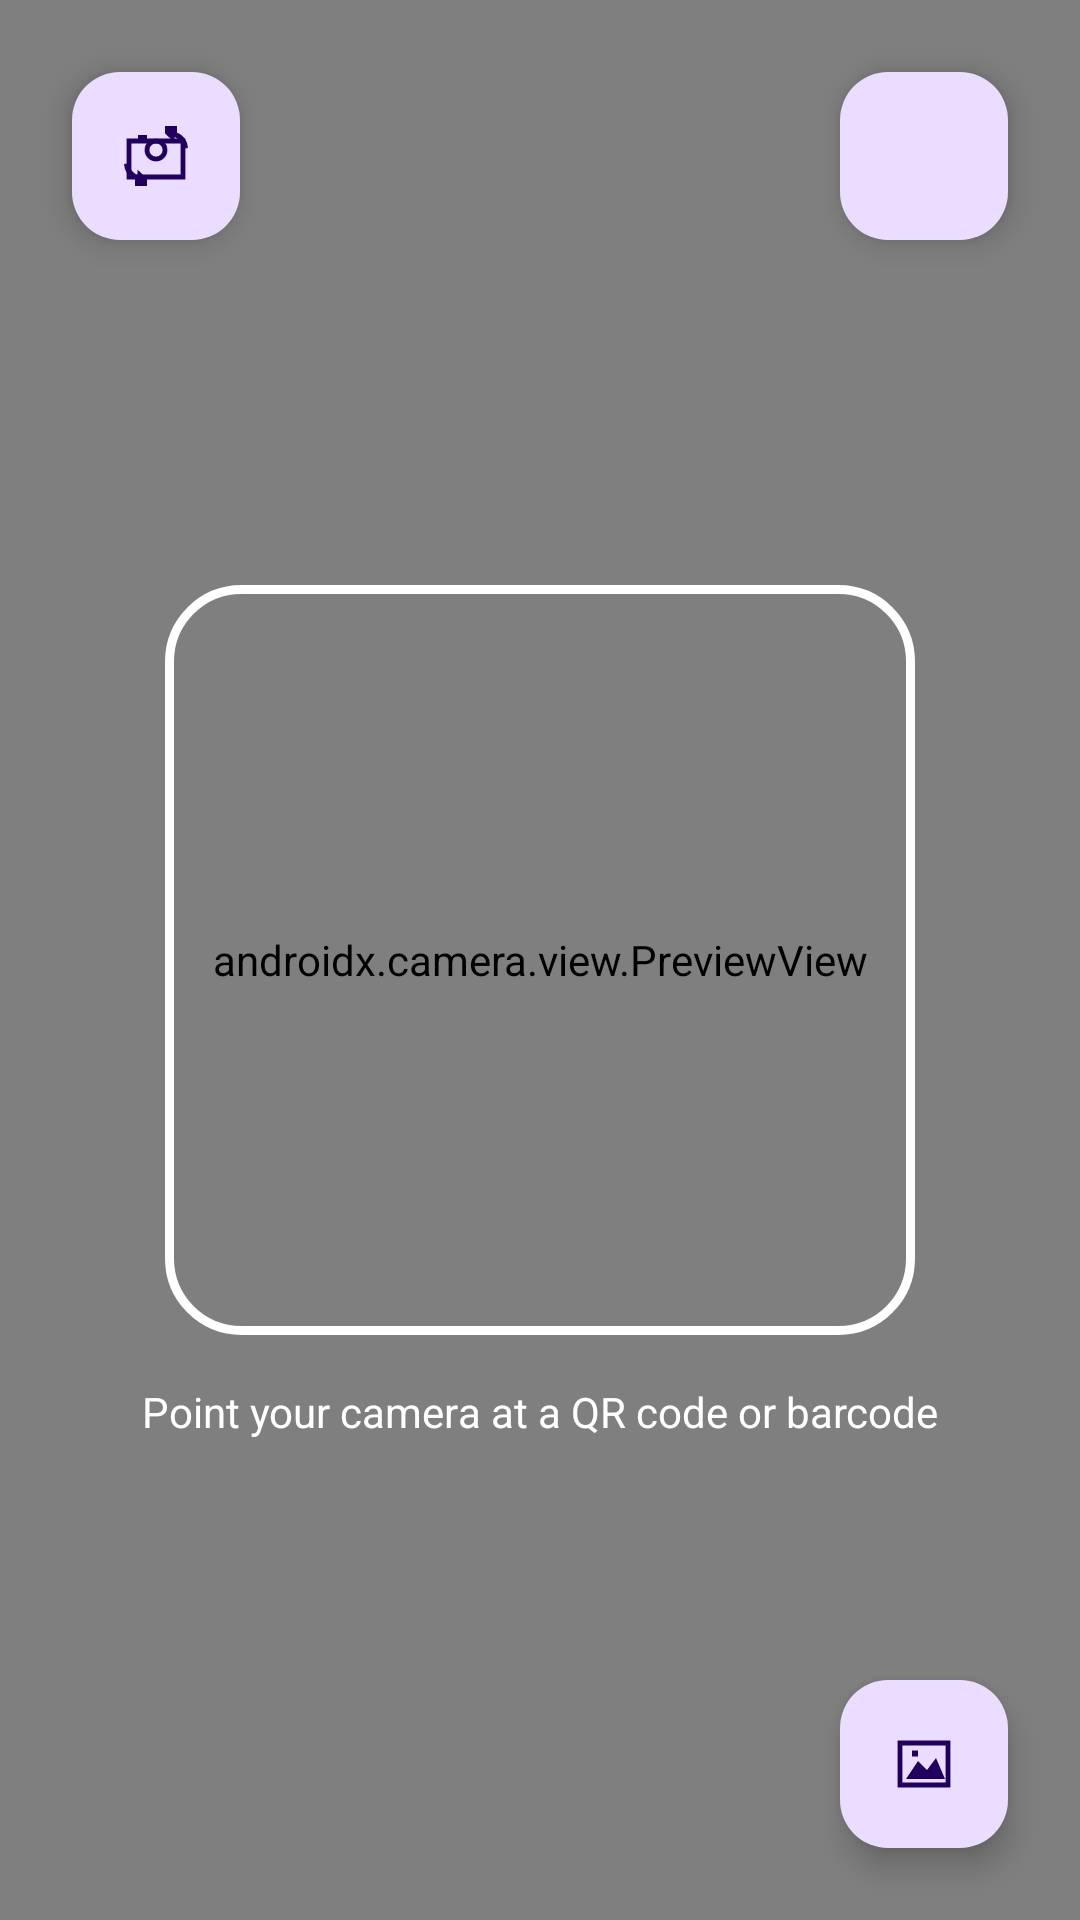

Icon click points for this 1080 × 1920 phone screenshot, format (x=x, y=y):
gallery: (x=924, y=1764)
Switch camera: (x=156, y=156)
